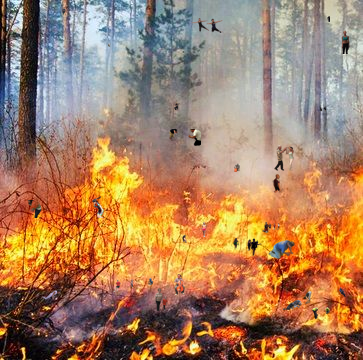Human: (169, 129, 201, 146), (12, 200, 42, 218), (328, 30, 350, 54), (182, 222, 207, 243), (233, 238, 262, 256), (274, 145, 294, 171), (268, 240, 295, 259), (191, 18, 223, 33), (154, 288, 168, 311), (92, 196, 104, 218), (113, 279, 133, 292), (174, 274, 185, 295), (272, 174, 284, 193), (41, 289, 61, 300), (312, 307, 330, 319), (262, 222, 280, 233), (283, 300, 302, 310), (302, 126, 321, 135), (303, 291, 312, 304), (339, 287, 347, 297), (147, 278, 154, 287), (234, 163, 240, 172), (174, 102, 180, 110), (320, 106, 326, 112), (62, 7, 66, 15), (327, 16, 330, 22), (161, 324, 165, 327), (247, 257, 250, 261), (108, 43, 111, 47), (123, 137, 126, 140), (180, 330, 183, 333)
